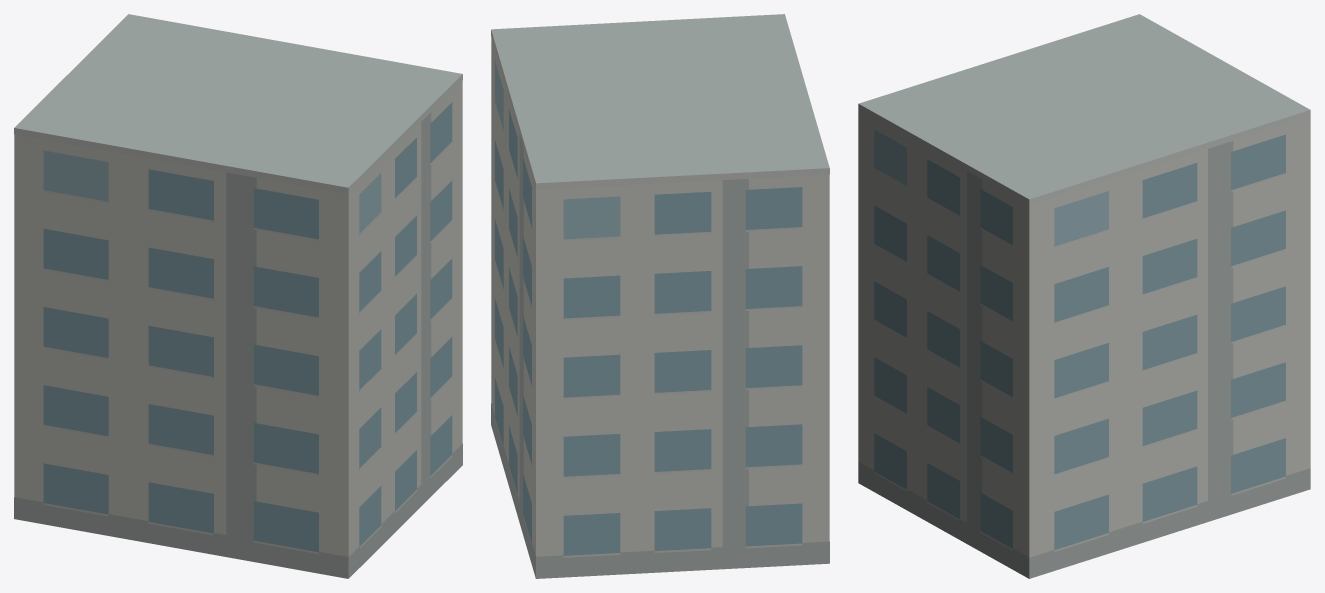
Rendered from residential-92d91e7e-ae6a-499c-b982-55237e59105e.glb.
3 views of the same model, side by side, from view 1: azimuth 30°, elevation 25°; view 2: azimuth 150°, elevation 25°; view 3: azimuth 270°, elevation 25° (orthographic). The views are drawn at different scales.
Parts seen in each view (by area): view 1: residential-92d91e7e-ae6a-499c-b982-55237e59105e.tmp; view 2: residential-92d91e7e-ae6a-499c-b982-55237e59105e.tmp; view 3: residential-92d91e7e-ae6a-499c-b982-55237e59105e.tmp.
Part boxes in pixels (x1,y1,x2,y2): residential-92d91e7e-ae6a-499c-b982-55237e59105e.tmp: (14,14,462,578); residential-92d91e7e-ae6a-499c-b982-55237e59105e.tmp: (491,14,829,578); residential-92d91e7e-ae6a-499c-b982-55237e59105e.tmp: (858,14,1310,578).
Size of the model in its own units: 15.42 by 14.7 by 15.88.
